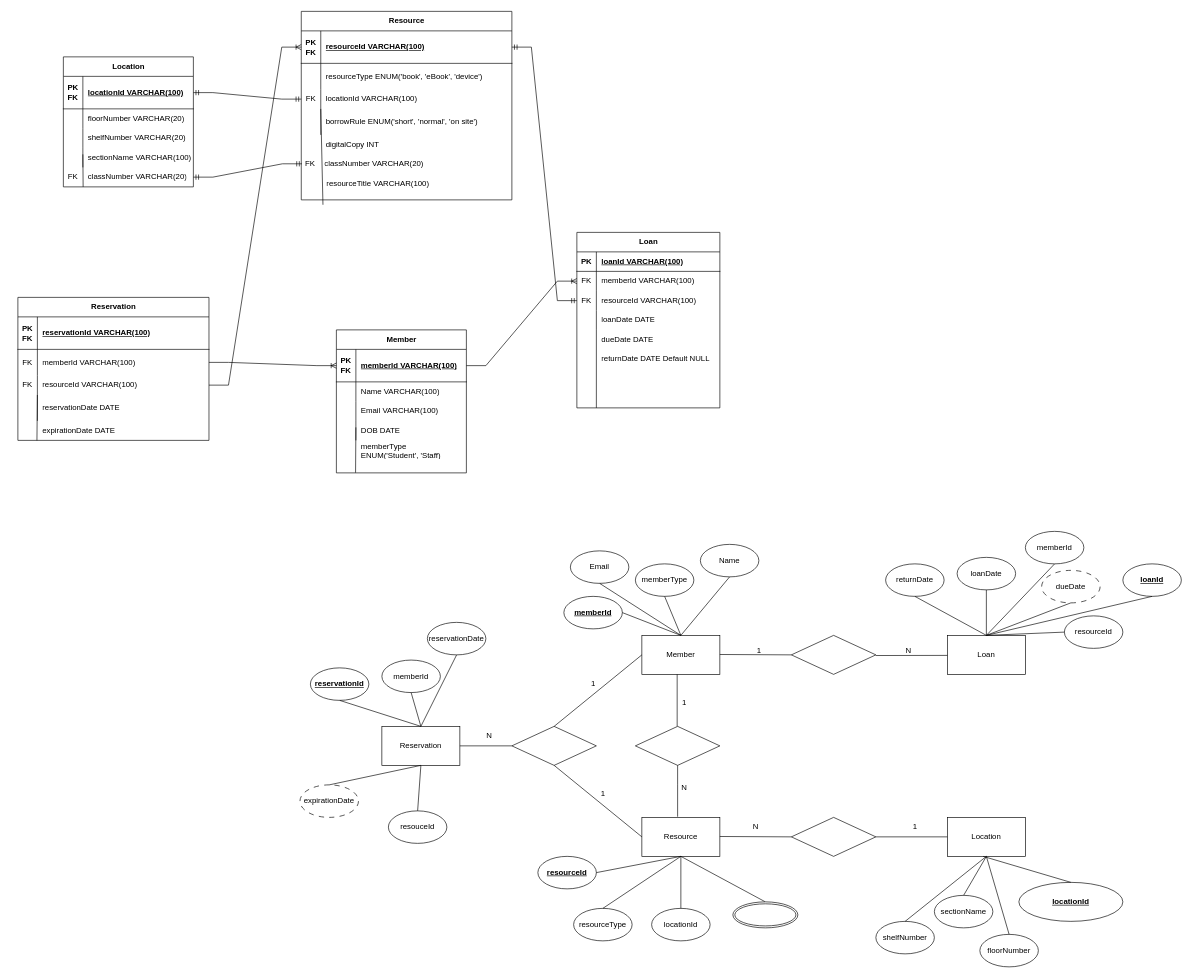
This 1193x978 diagram has some shape labels left out. Here are the shapes that lost their labels. From the top down, the centre of each, then its label:
At [833,654]: "has".
At [553,745]: "reserved by".
At [677,745]: "Borrow".
At [833,836]: "located in".
At [765,914]: "borrowRule".
